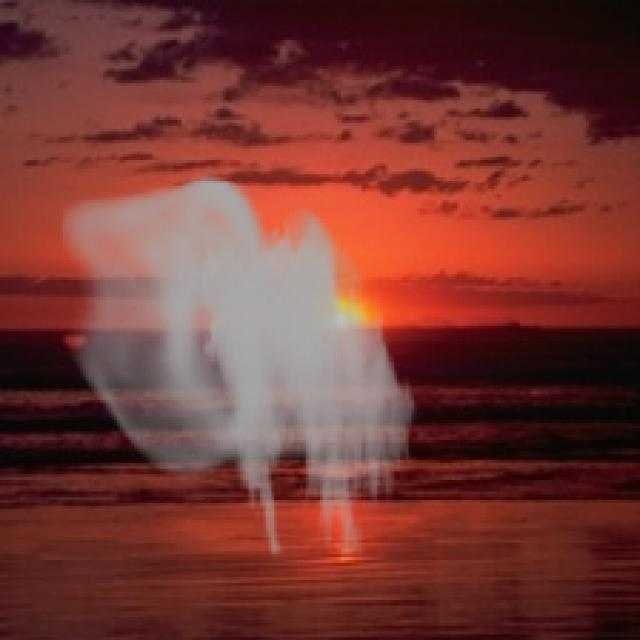Smoke: (60, 174, 420, 557)
